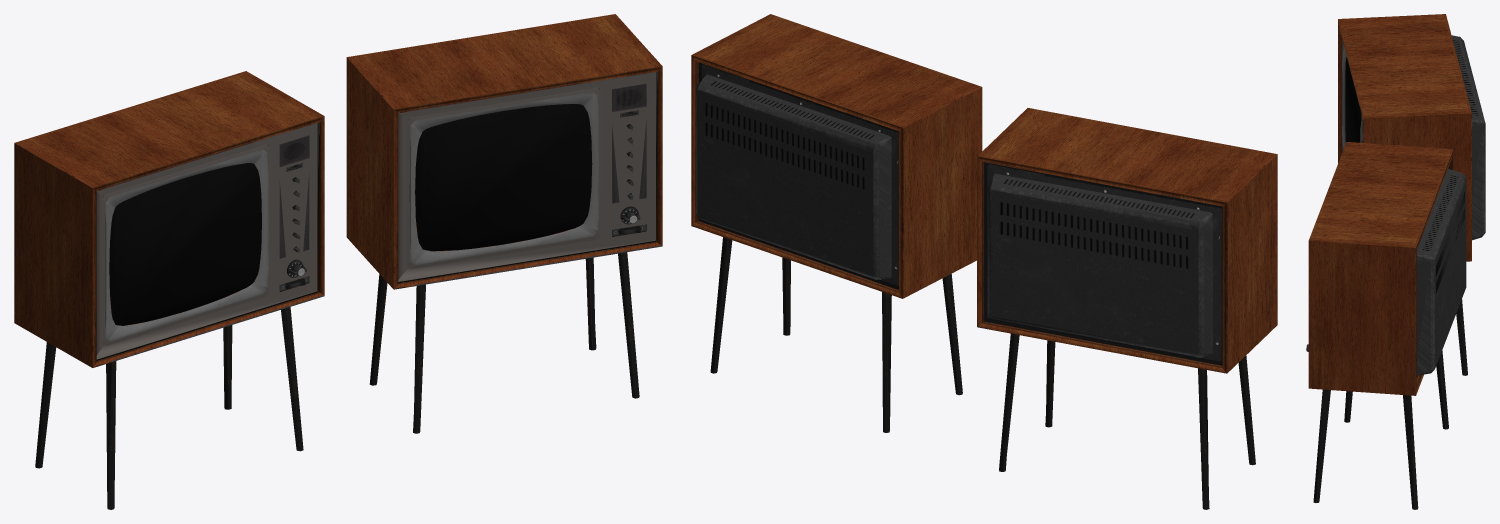
Rendered from xixhentsan_TVs_2.fbx.
3 views of the same model, side by side, from view 1: azimuth 30°, elevation 25°; view 2: azimuth 150°, elevation 25°; view 3: azimuth 270°, elevation 25° (orthographic). The views are drawn at different scales.
Parts seen in each view (by area): view 1: tv2, tv1, screen1, screen2; view 2: tv2, tv1; view 3: tv1, tv2, screen2.
Part boxes in pixels (x1,y1,x2,y2): tv2: (14,71,324,509); tv1: (346,14,662,433); screen1: (415,104,592,251); screen2: (109,163,261,325); tv2: (977,108,1277,509); tv1: (691,14,982,432); tv1: (1306,142,1466,509); tv2: (1338,14,1485,375); screen2: (1345,57,1361,142).
Size of the model in its own units: 170 by 91.48 by 54.95.
1 material, 1 textured.
